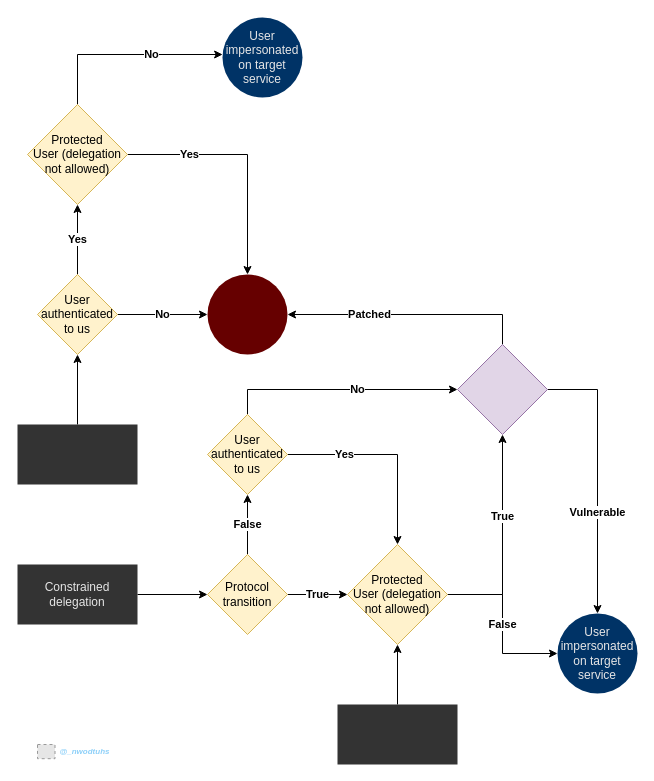
Image size: 654x781. Some labels were removed from this diagram. Grey dashed boxes stand in for pictures. Each missing label, with the centre of its shape:
"Bronze bit CVE-2020-17049" goes at point (502, 389).
"Fail" goes at point (247, 314).
"Resource-based constrained delegation" goes at point (397, 734).
"Unconstrained delegation" goes at point (77, 454).
